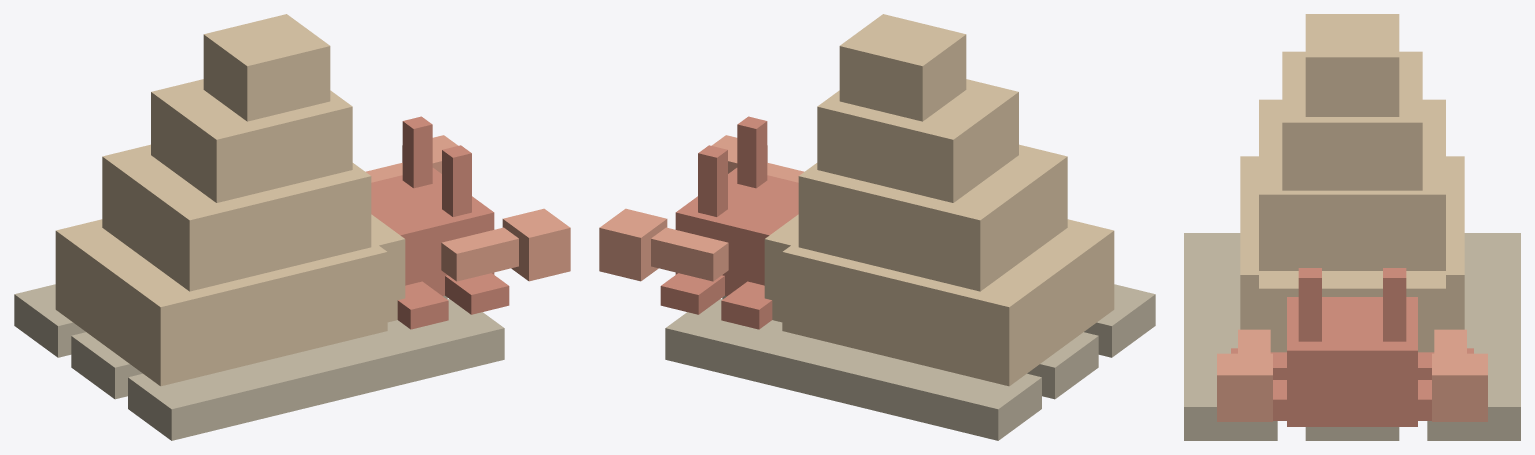
File: 36-Fauna_cangrejo_ermitano.glb
3 renders of one model, left to right at view 1: azimuth 30°, elevation 25°; view 2: azimuth 150°, elevation 25°; view 3: azimuth 270°, elevation 25°, orthographic. The views are drawn at different scales.
Parts seen in each view (by area): view 1: SM_Cangrejo_Concha_NOFUNDIR, SM_Cangrejo_Rodela_NOFUNDIR, SM_Cangrejo_Cuerpo_NOFUNDIR, SM_Cangrejo_Pinzas_NOFUNDIR; view 2: SM_Cangrejo_Concha_NOFUNDIR, SM_Cangrejo_Rodela_NOFUNDIR, SM_Cangrejo_Cuerpo_NOFUNDIR, SM_Cangrejo_Pinzas_NOFUNDIR; view 3: SM_Cangrejo_Concha_NOFUNDIR, SM_Cangrejo_Rodela_NOFUNDIR, SM_Cangrejo_Cuerpo_NOFUNDIR, SM_Cangrejo_Pinzas_NOFUNDIR.
Boxes of the visible parts, x1,y1,x2,y2 form: SM_Cangrejo_Concha_NOFUNDIR: (55,14,405,386); SM_Cangrejo_Rodela_NOFUNDIR: (14,284,504,440); SM_Cangrejo_Cuerpo_NOFUNDIR: (371,116,509,329); SM_Cangrejo_Pinzas_NOFUNDIR: (365,135,570,281); SM_Cangrejo_Concha_NOFUNDIR: (764,14,1114,386); SM_Cangrejo_Rodela_NOFUNDIR: (665,284,1155,440); SM_Cangrejo_Cuerpo_NOFUNDIR: (660,116,798,329); SM_Cangrejo_Pinzas_NOFUNDIR: (599,135,804,281); SM_Cangrejo_Concha_NOFUNDIR: (1240,14,1464,352); SM_Cangrejo_Rodela_NOFUNDIR: (1184,233,1520,440); SM_Cangrejo_Cuerpo_NOFUNDIR: (1231,268,1473,426); SM_Cangrejo_Pinzas_NOFUNDIR: (1217,329,1487,421).
Size of the model in its own units: 0.5475 by 0.38 by 0.36.
